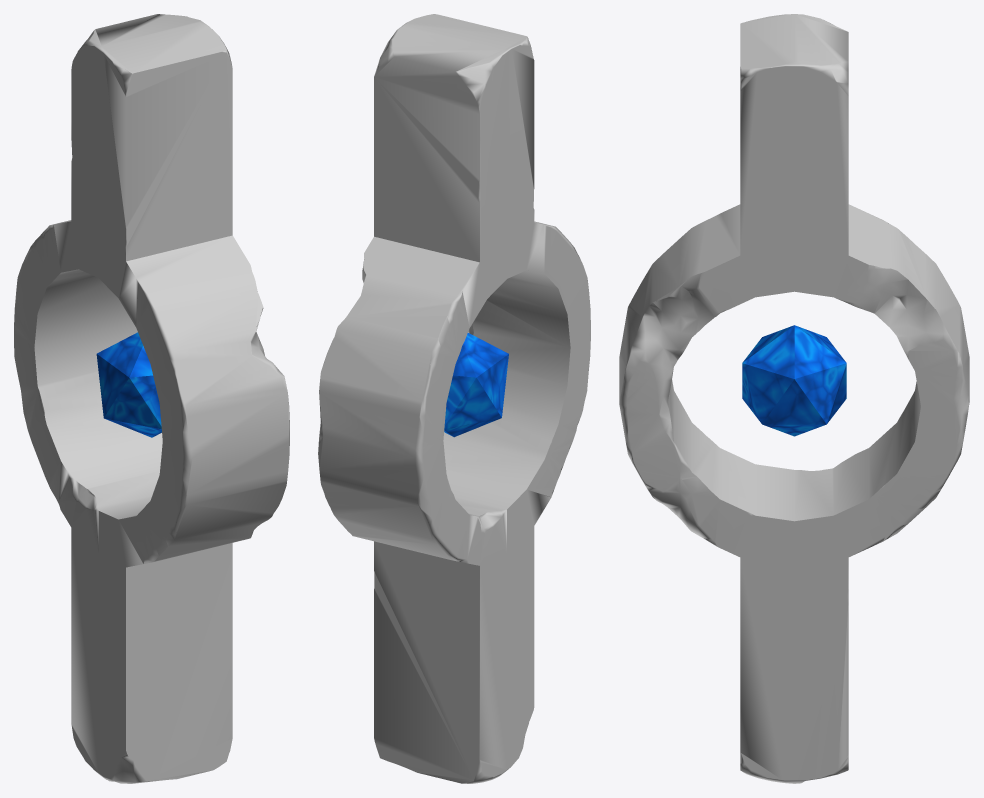
3 renders of one model, left to right at view 1: azimuth 30°, elevation 25°; view 2: azimuth 150°, elevation 25°; view 3: azimuth 270°, elevation 25°, orthographic.
Visible parts, largest first — view 1: Cylinder.264_dmg; view 2: Cylinder.264_dmg; view 3: Cylinder.264_dmg.
Part boxes in pixels (x1,y1,x2,y2): Cylinder.264_dmg: (14, 14, 289, 783); Cylinder.264_dmg: (318, 14, 590, 783); Cylinder.264_dmg: (619, 14, 969, 783).
Bounding box in the file's own units: 246 × 1610 × 708.
